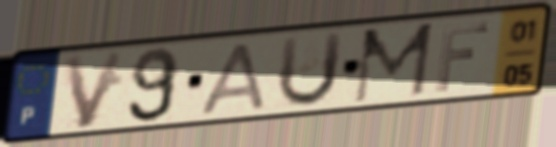9: (125, 44, 183, 126)
A: (197, 39, 270, 117)
F: (432, 19, 493, 94)
M: (349, 19, 437, 107)
U: (274, 28, 347, 111)
V: (59, 47, 130, 132)
